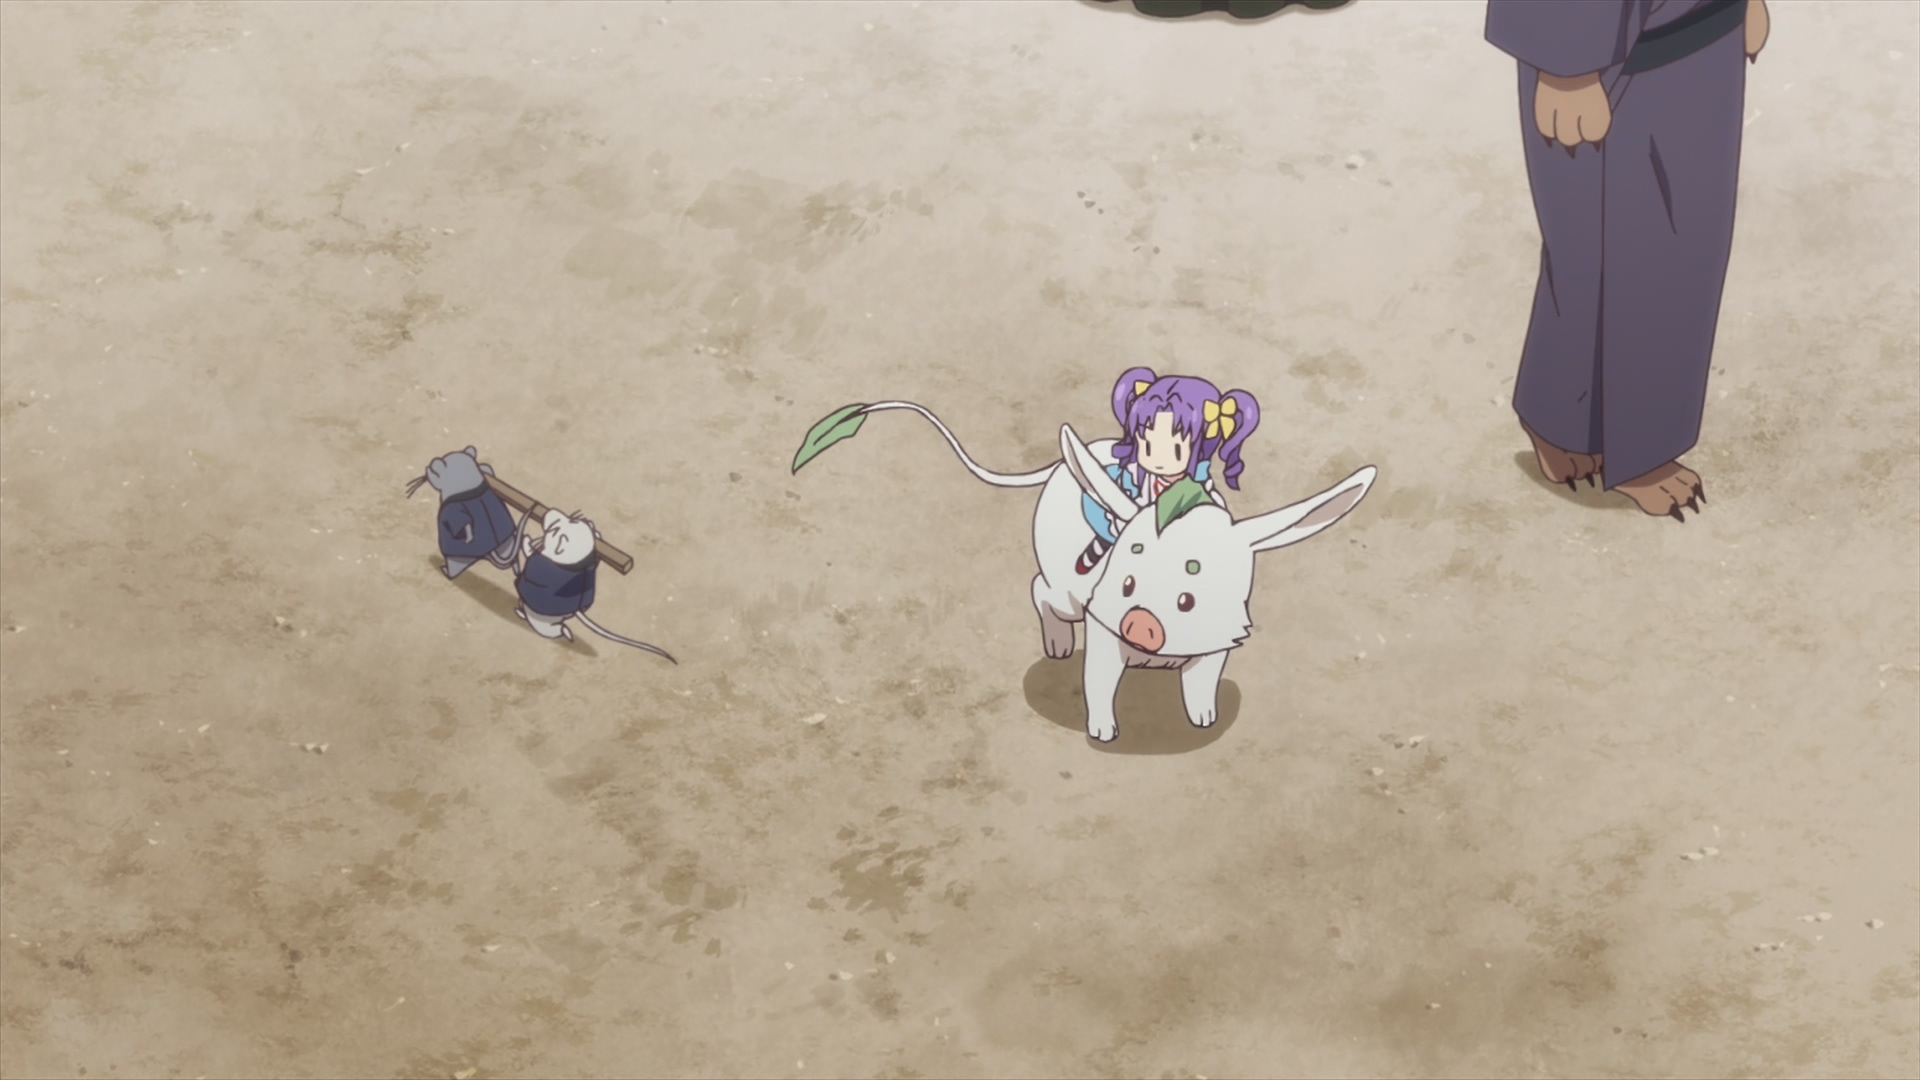其他: (1480, 1, 1768, 524), (513, 509, 675, 663), (409, 443, 533, 580)
瓜之介: (793, 401, 1375, 742)
阿菊: (1072, 365, 1261, 576)
